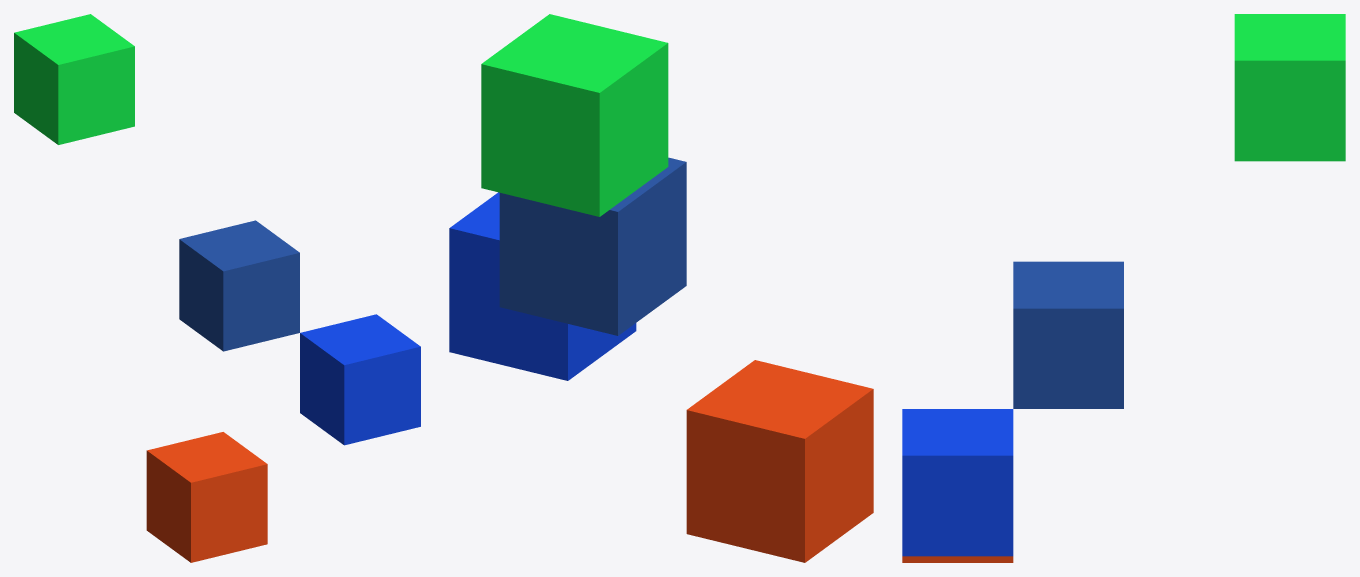
The model's file is native.obj.
The picture shows the model from 3 angles, left to right: view 1: azimuth 30°, elevation 25°; view 2: azimuth 150°, elevation 25°; view 3: azimuth 270°, elevation 25°; orthographic projection. The views are drawn at different scales.
Bounding box in the file's own units: 0.3 × 0.5 × 0.4.
Materials: 1 (1 with a texture image).
